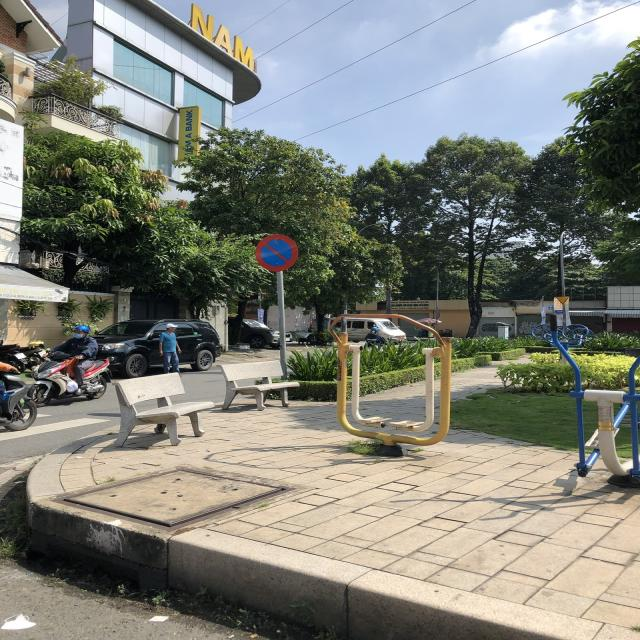Bien bao cam do xe: (248, 231, 302, 274)
